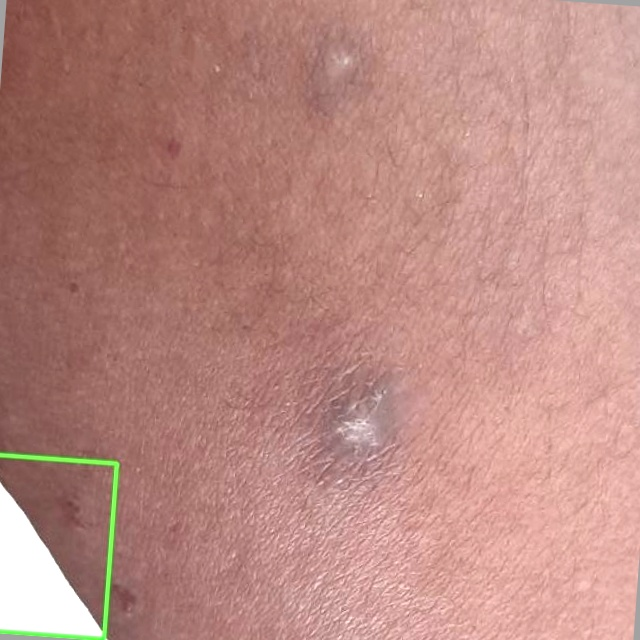Scabies: (0, 456, 117, 639)
